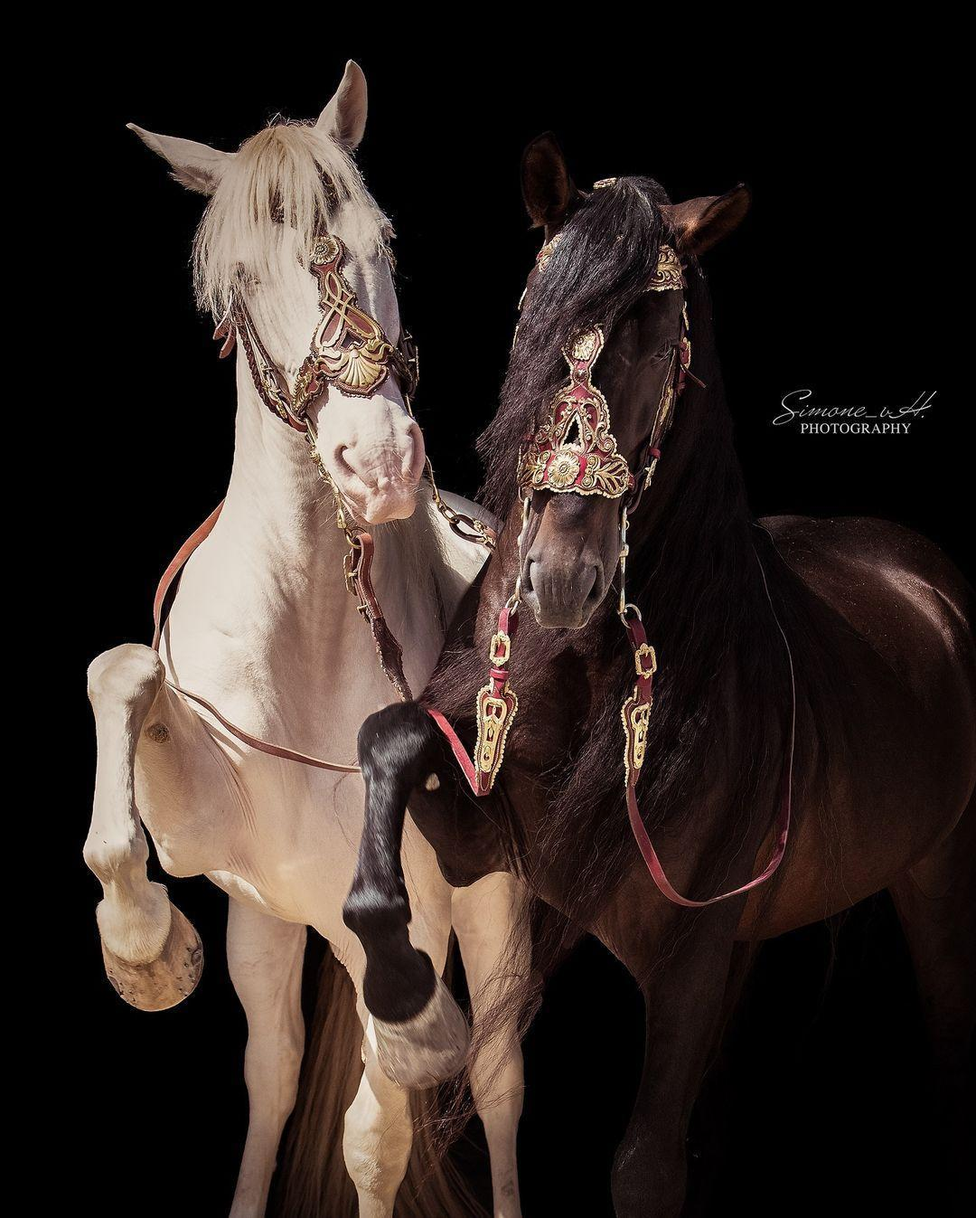horse: (338, 131, 974, 1215), (81, 56, 542, 1216)
